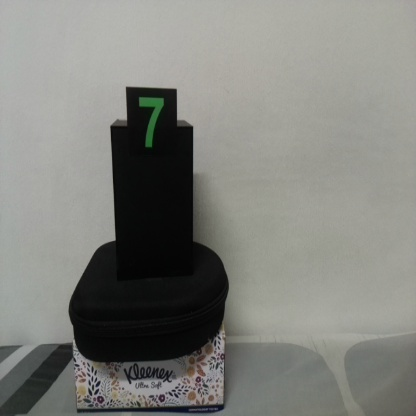id_7: (125, 88, 179, 165)
